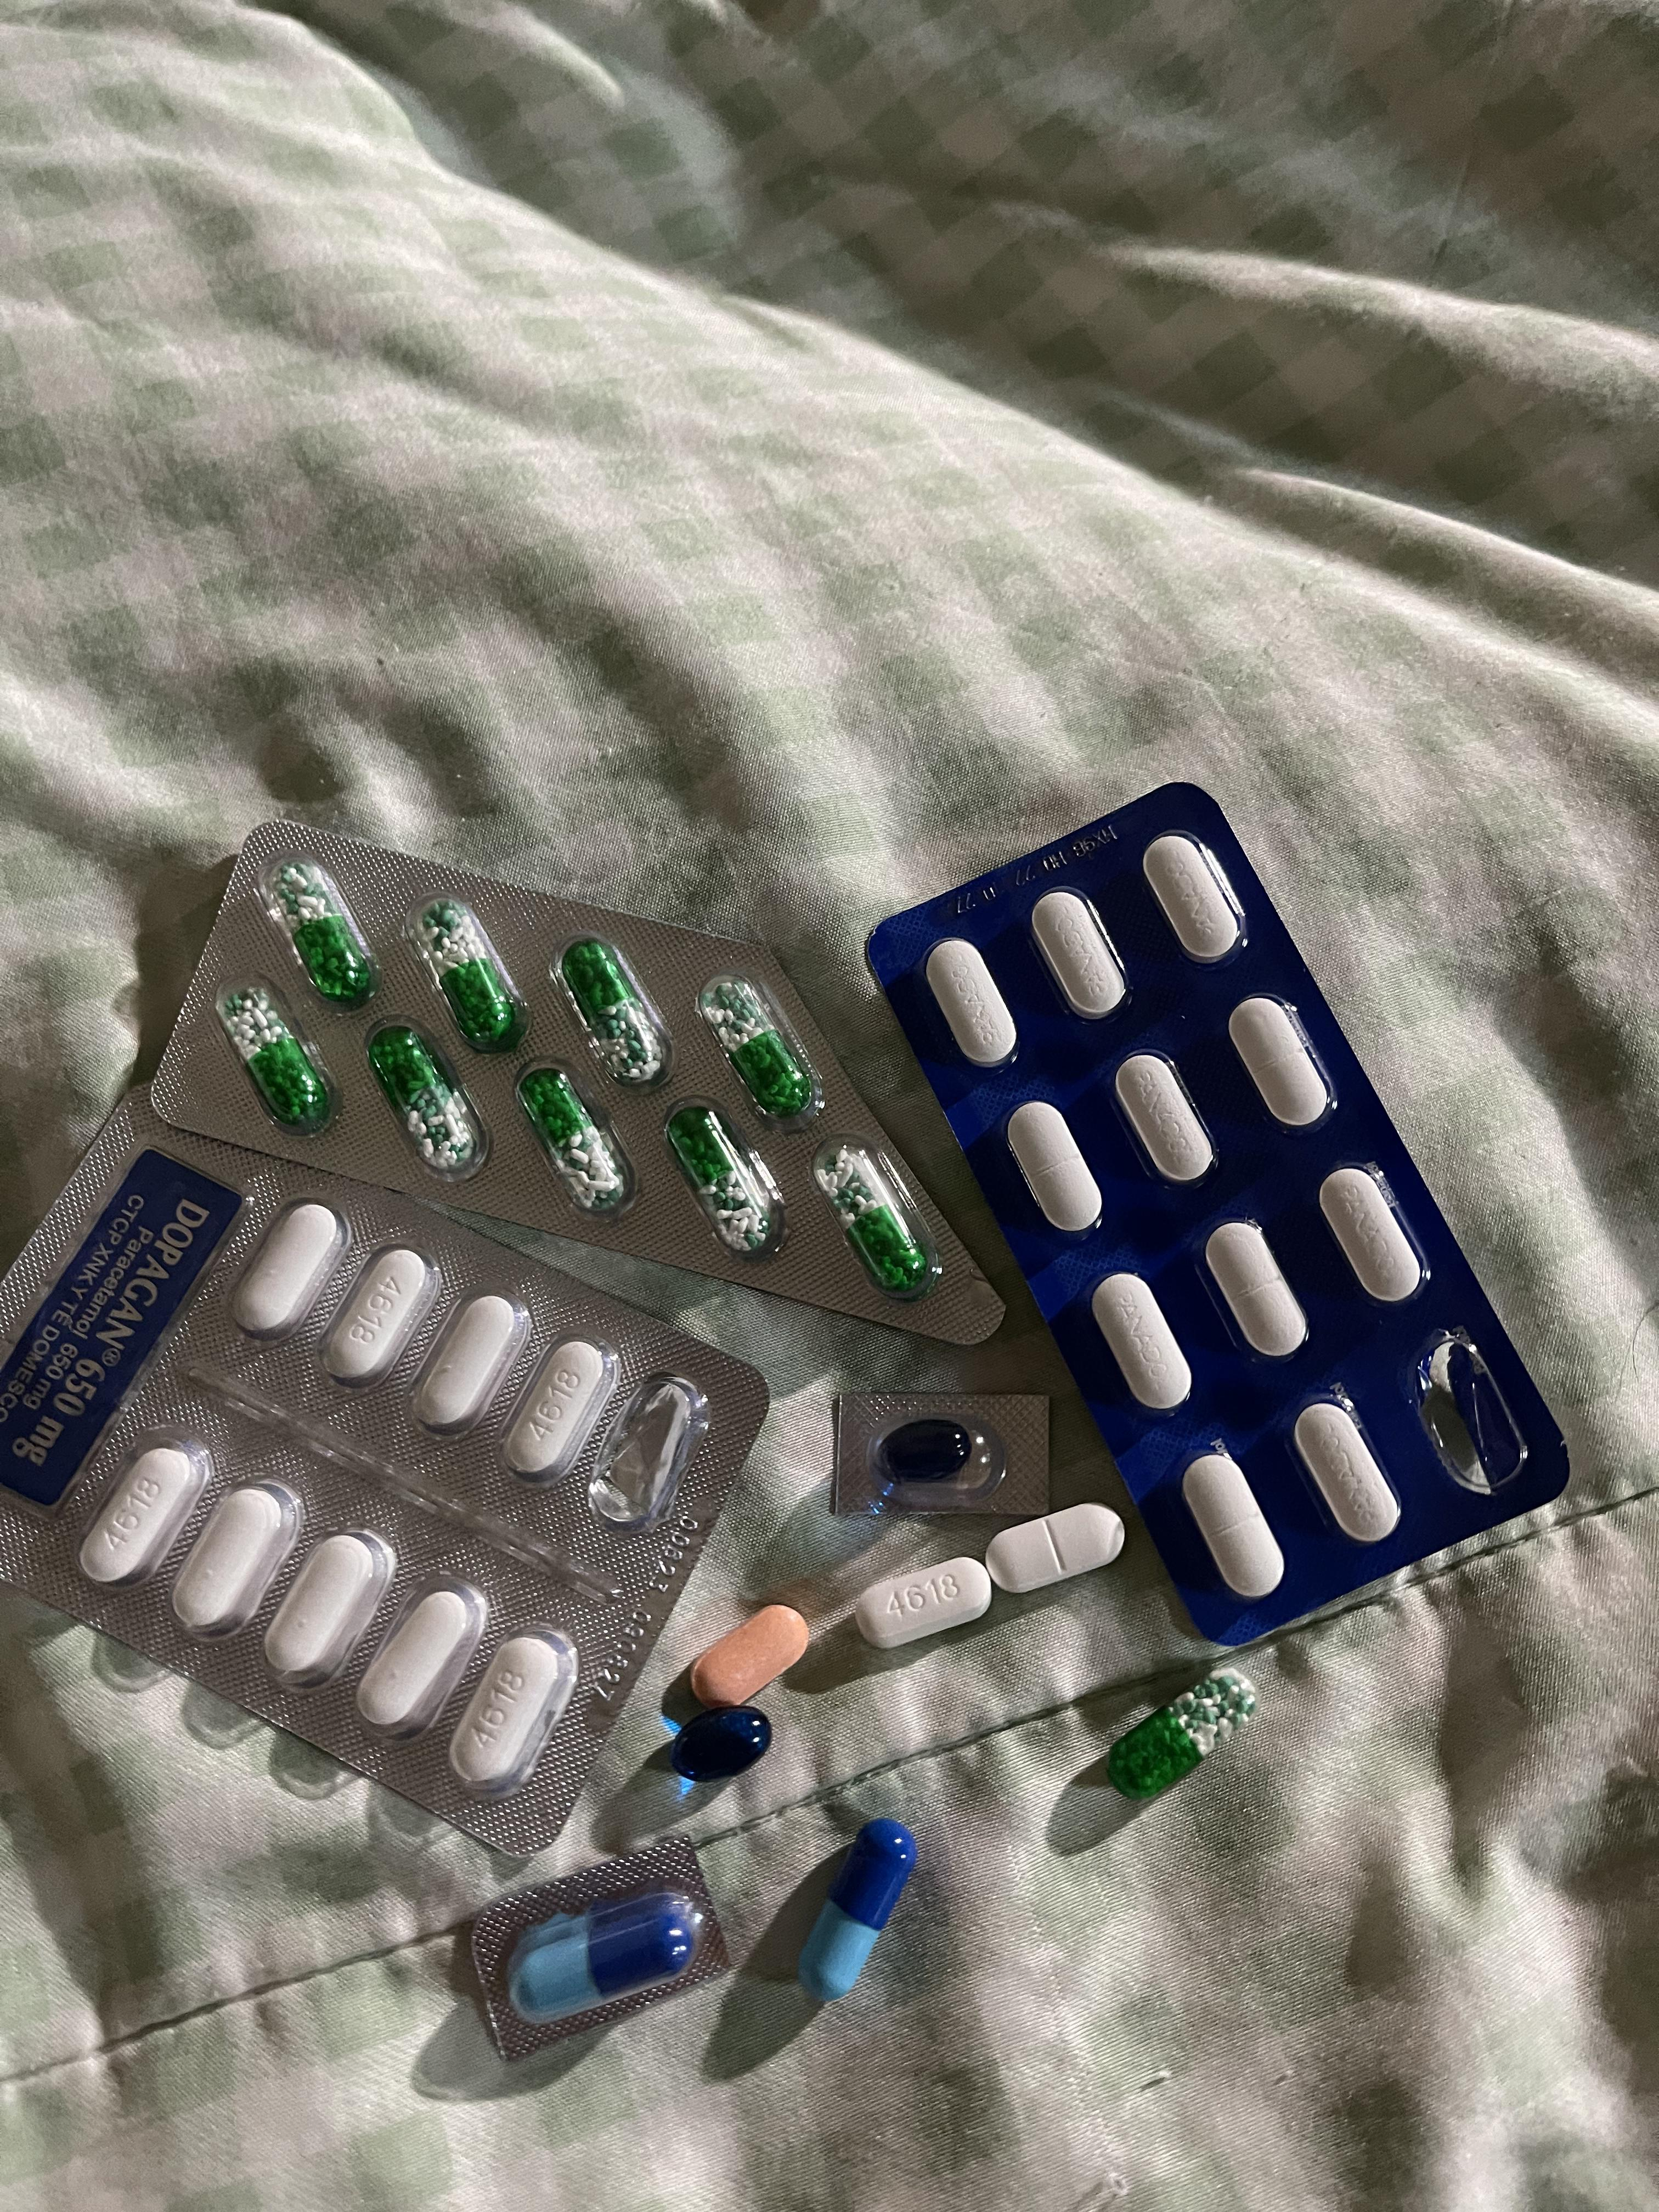Lincomyxin_500mg: (666, 1705, 772, 1789), (880, 1420, 978, 1484)
Loratadine_10mg: (694, 1606, 809, 1705)
Paracetamol_350mg: (1291, 1399, 1405, 1545), (1180, 1451, 1281, 1601), (1319, 1165, 1425, 1305), (1202, 1221, 1307, 1362), (1114, 1054, 1215, 1193), (1094, 1271, 1190, 1411), (1230, 995, 1330, 1129), (1145, 834, 1244, 967), (990, 1501, 1129, 1594), (1006, 1097, 1098, 1231), (1030, 890, 1124, 1021), (925, 939, 1014, 1071)
Paracetamol_500mg: (453, 1629, 582, 1803), (356, 1575, 488, 1743), (265, 1526, 396, 1689), (173, 1475, 301, 1637), (78, 1430, 213, 1585), (500, 1331, 622, 1486), (408, 1285, 530, 1437), (317, 1244, 441, 1390), (232, 1200, 350, 1341), (854, 1554, 986, 1648)
Paracetamol_650mg: (660, 1099, 782, 1264), (1107, 1665, 1248, 1801), (518, 1068, 629, 1212), (366, 1022, 474, 1169), (812, 1141, 920, 1285), (416, 899, 521, 1047), (268, 860, 373, 1003), (704, 977, 812, 1115), (563, 941, 666, 1083), (221, 988, 326, 1127)
pill: (511, 1892, 704, 2022), (796, 1818, 911, 2000)
